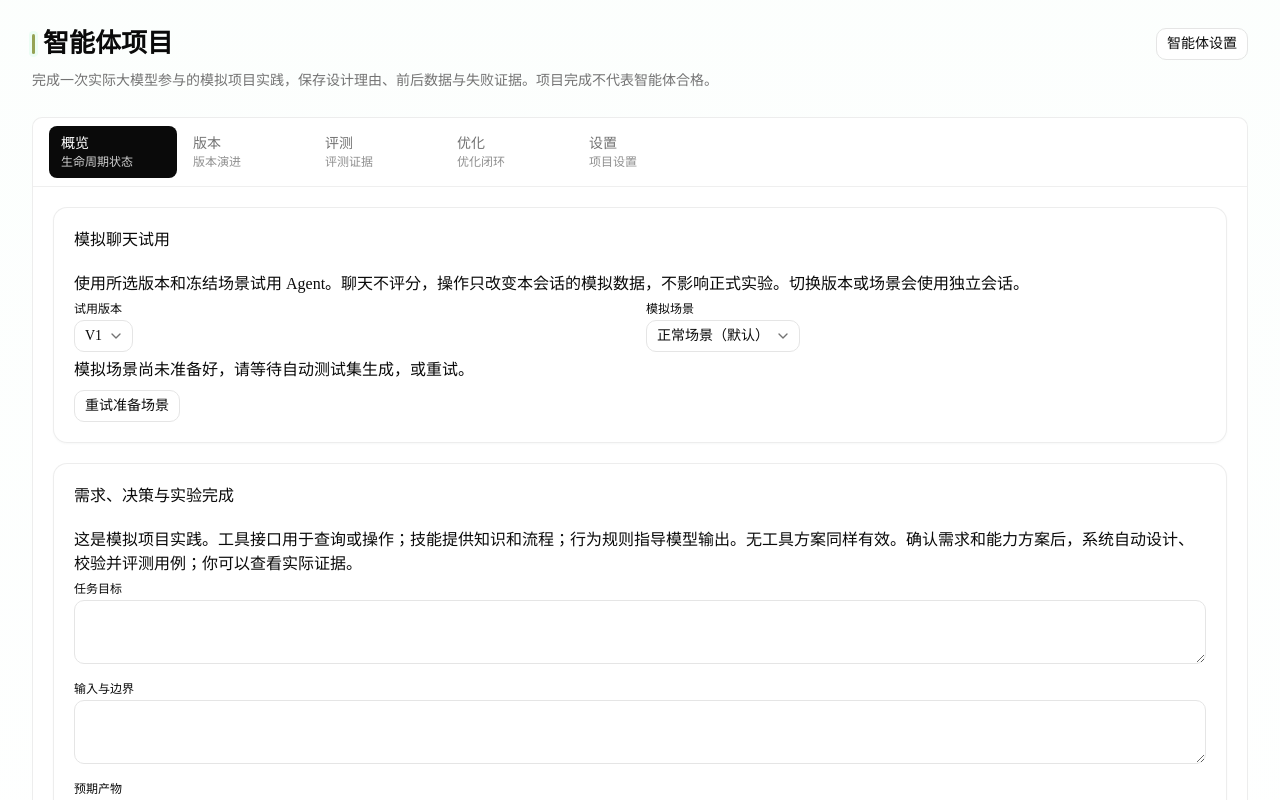
Test: automatically resumes a Builder project and shows Chinese lifecycle progress
Click the button "设置 项目设置": (641, 152) [577,126,705,178]
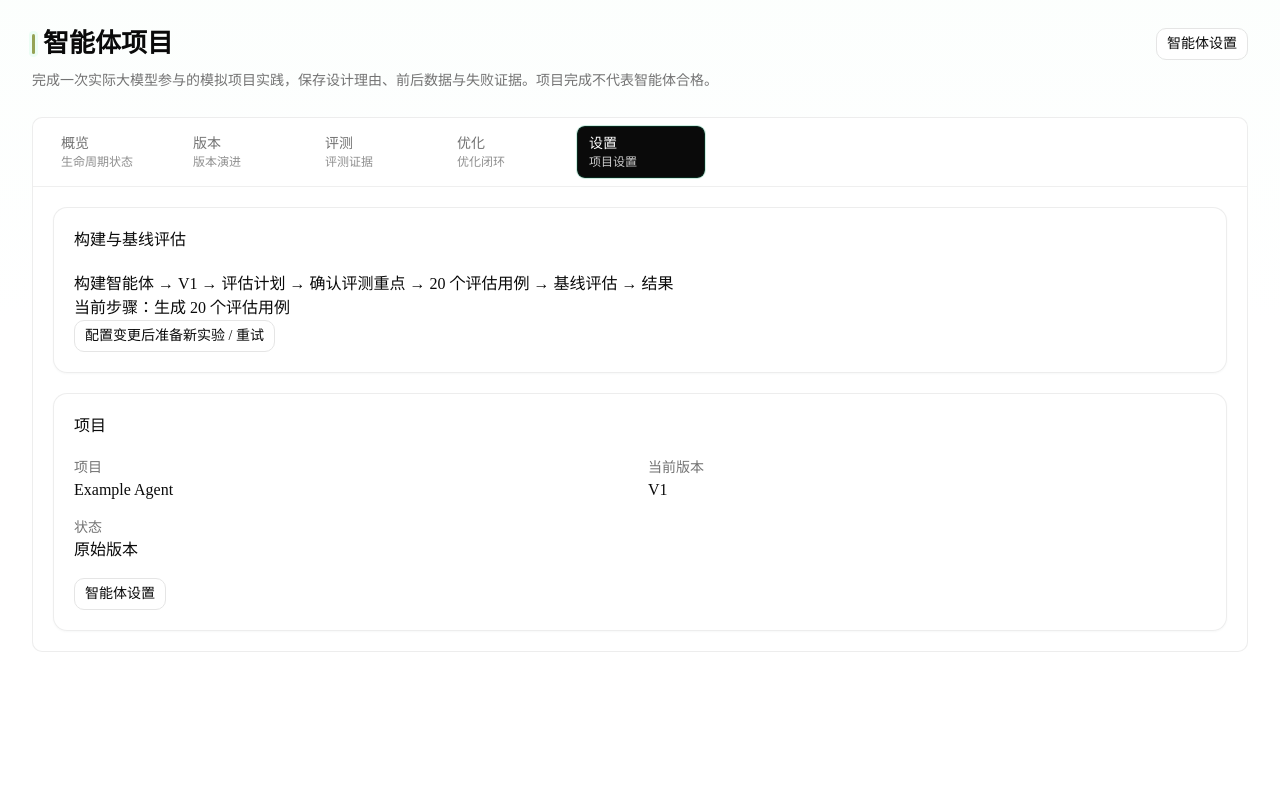
Expected: the heading "构建与基线评估" is shown, [74,228,186,252]
Expected: the text "当前步骤：生成 20 个评估用例" is shown, [74,298,290,316]
